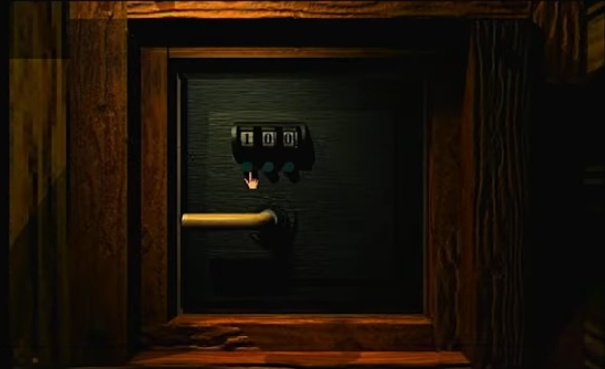Pointer: (242, 169, 262, 191)
